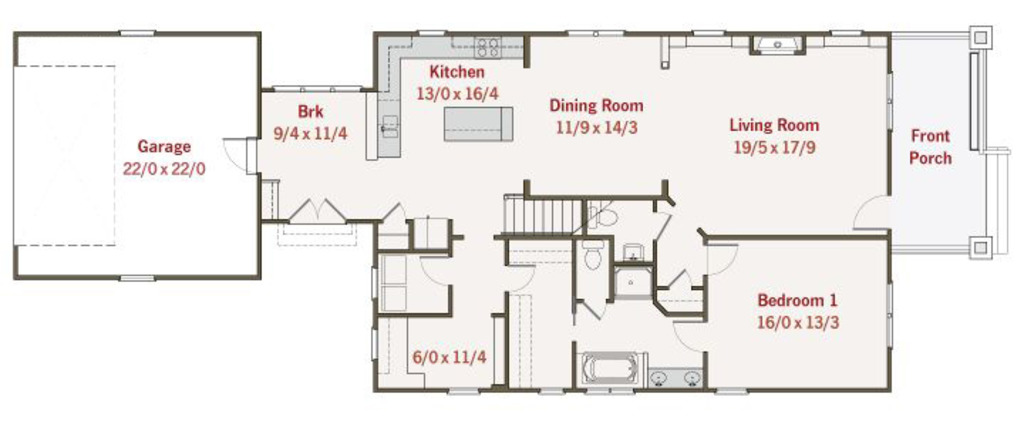door: (855, 188, 897, 233), (288, 192, 343, 225), (226, 134, 270, 172), (698, 241, 738, 276), (672, 316, 714, 349), (416, 258, 458, 286), (501, 262, 535, 295), (658, 269, 701, 291), (375, 202, 408, 227), (579, 295, 609, 322), (652, 209, 673, 243)
large_sink: (580, 234, 608, 272), (579, 206, 619, 231)
small_sink: (650, 363, 705, 386), (620, 241, 645, 262)
stairs: (497, 186, 588, 235)
tub: (575, 351, 644, 391)
twin_sink: (378, 115, 403, 154)
window: (882, 70, 895, 133), (115, 25, 160, 43), (411, 23, 449, 41), (828, 25, 870, 41), (583, 386, 639, 398), (884, 281, 894, 343), (565, 28, 621, 38), (712, 385, 753, 397), (448, 384, 483, 398), (122, 272, 155, 285), (539, 384, 566, 397), (689, 29, 726, 37)
